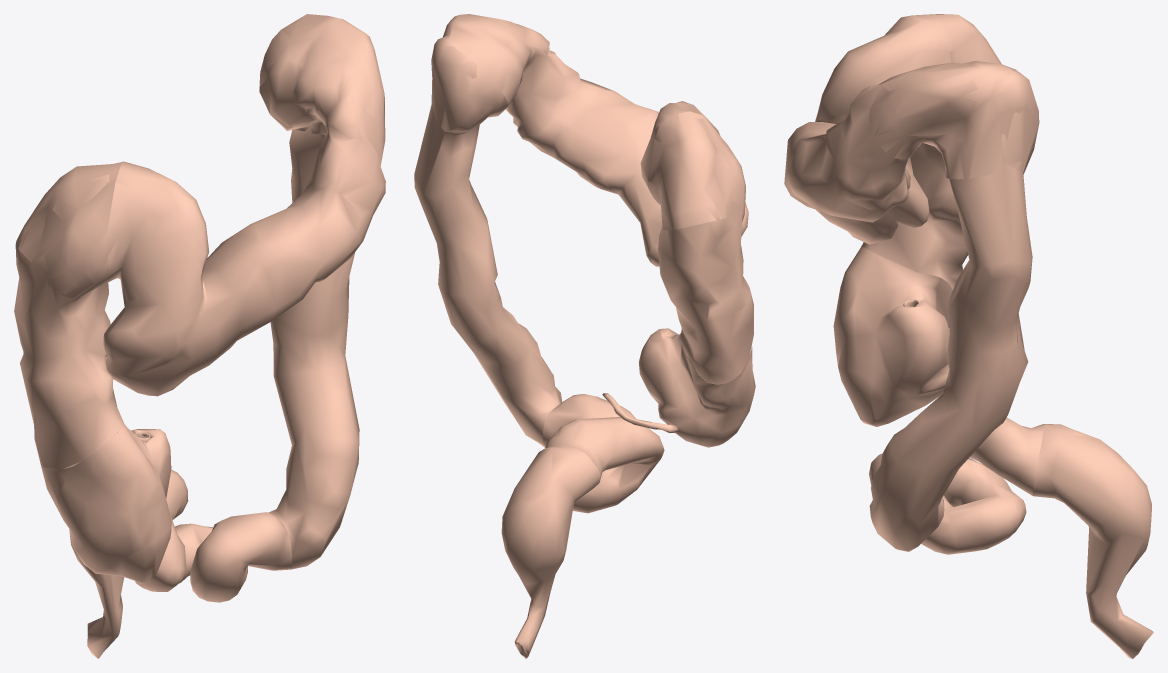
Rendered from intestine_large.glb.
3 renders of one model, left to right at view 1: azimuth 30°, elevation 25°; view 2: azimuth 150°, elevation 25°; view 3: azimuth 270°, elevation 25°, orthographic. The views are drawn at different scales.
Parts seen in each view (by area): view 1: VH_M_transverse_colon, VH_M_descending_colon, VH_M_ascending_colon, VH_M_caecum, VH_M_sigmoid_colon, VH_M_splenic_flexure_of_colon, VH_M_hepatic_flexure_of_colon, VH_M_rectum; view 2: VH_M_descending_colon, VH_M_transverse_colon, VH_M_ascending_colon, VH_M_rectum, VH_M_caecum, VH_M_sigmoid_colon, VH_M_splenic_flexure_of_colon, VH_M_hepatic_flexure_of_colon, VH_M_vermiform_appendix; view 3: VH_M_descending_colon, VH_M_transverse_colon, VH_M_caecum, VH_M_rectum, VH_M_splenic_flexure_of_colon, VH_M_sigmoid_colon, VH_M_ascending_colon, VH_M_hepatic_flexure_of_colon.
Boxes of the visible parts, left/top/right/bottom form: VH_M_transverse_colon: left=103, top=16, right=385, bottom=396; VH_M_descending_colon: left=268, top=36, right=359, bottom=569; VH_M_ascending_colon: left=14, top=163, right=124, bottom=469; VH_M_caecum: left=41, top=425, right=171, bottom=582; VH_M_sigmoid_colon: left=135, top=469, right=292, bottom=602; VH_M_splenic_flexure_of_colon: left=259, top=14, right=384, bottom=135; VH_M_hepatic_flexure_of_colon: left=16, top=161, right=207, bottom=301; VH_M_rectum: left=69, top=530, right=124, bottom=658; VH_M_descending_colon: left=414, top=42, right=562, bottom=447; VH_M_transverse_colon: left=443, top=14, right=748, bottom=266; VH_M_ascending_colon: left=648, top=111, right=753, bottom=384; VH_M_rectum: left=501, top=446, right=600, bottom=658; VH_M_caecum: left=639, top=328, right=755, bottom=447; VH_M_sigmoid_colon: left=543, top=394, right=664, bottom=513; VH_M_splenic_flexure_of_colon: left=431, top=14, right=534, bottom=131; VH_M_hepatic_flexure_of_colon: left=642, top=101, right=745, bottom=230; VH_M_vermiform_appendix: left=602, top=393, right=677, bottom=433; VH_M_descending_colon: left=869, top=70, right=1038, bottom=551; VH_M_transverse_colon: left=784, top=19, right=1009, bottom=244; VH_M_caecum: left=833, top=247, right=952, bottom=426; VH_M_rectum: left=1033, top=424, right=1153, bottom=658; VH_M_splenic_flexure_of_colon: left=868, top=61, right=1039, bottom=179; VH_M_sigmoid_colon: left=869, top=417, right=1044, bottom=554; VH_M_ascending_colon: left=861, top=14, right=990, bottom=289; VH_M_hepatic_flexure_of_colon: left=818, top=15, right=1001, bottom=121.
Size of the model in its own units: 0.2591 by 0.4503 by 0.2248.
